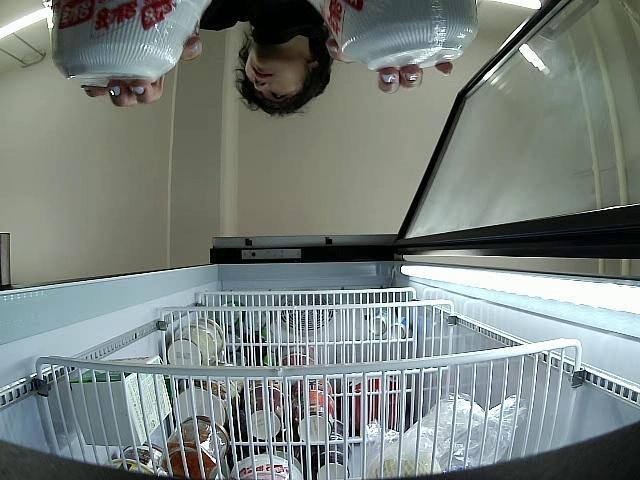09_yukGaeJang: (50, 0, 211, 86), (306, 0, 478, 73)
